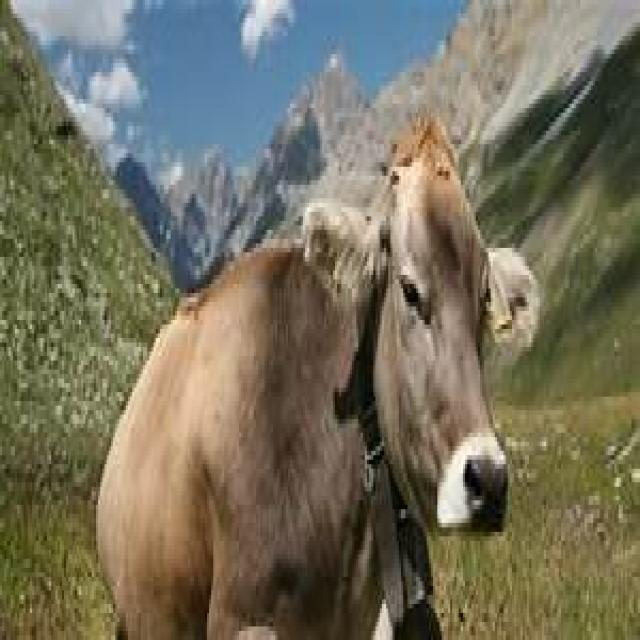cow: (98, 116, 532, 638)
